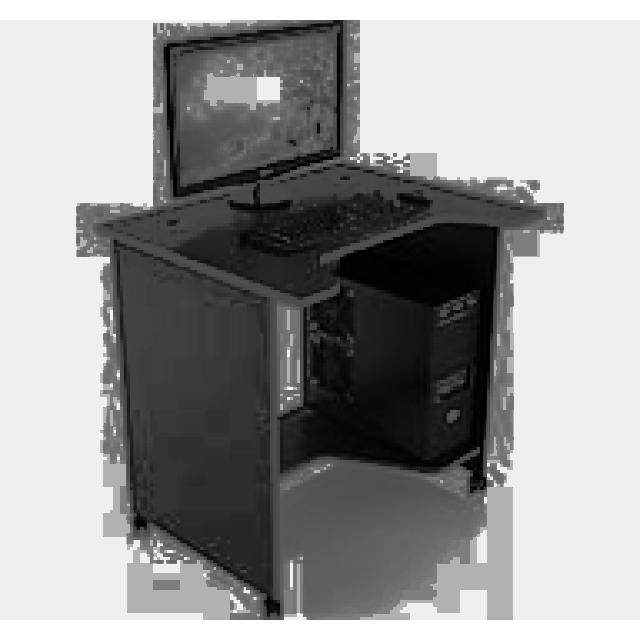table: (94, 156, 544, 616)
